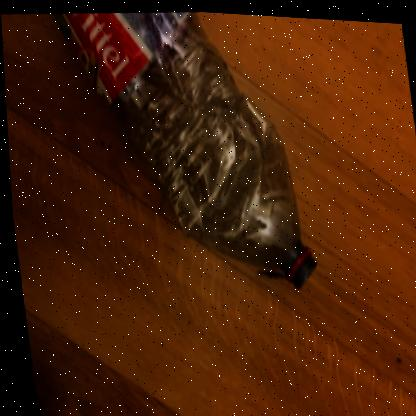Plastic: (54, 10, 314, 284)
